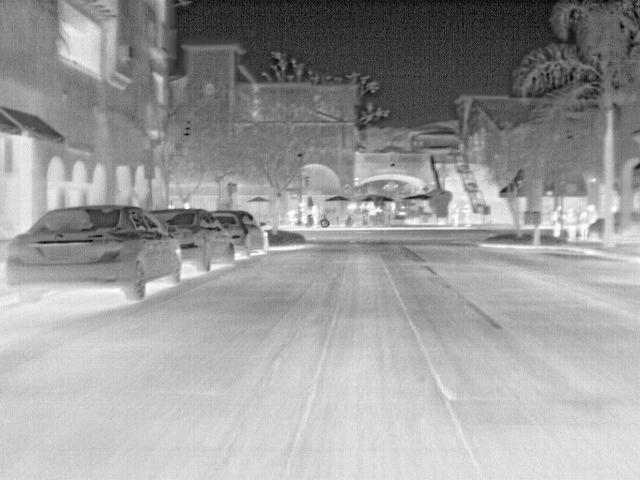car: (4, 202, 183, 304), (146, 209, 236, 277), (206, 209, 268, 259)
person: (548, 205, 565, 240), (562, 206, 578, 243), (578, 211, 592, 239), (449, 200, 462, 230), (585, 201, 600, 226), (461, 203, 475, 229), (310, 203, 322, 229), (287, 207, 303, 225)
